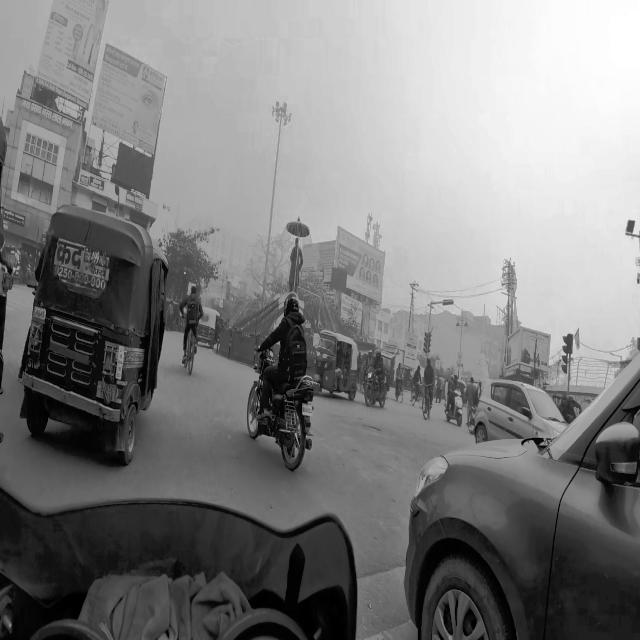Auto-Rickshaw: (26, 201, 168, 484), (314, 326, 359, 404), (198, 306, 220, 350)
Bike: (243, 282, 321, 494), (367, 351, 387, 409), (444, 373, 465, 426)
Car: (403, 337, 640, 637), (470, 376, 574, 441)
